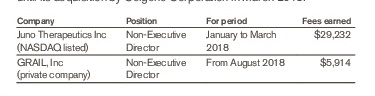table: (0, 0, 375, 96)
